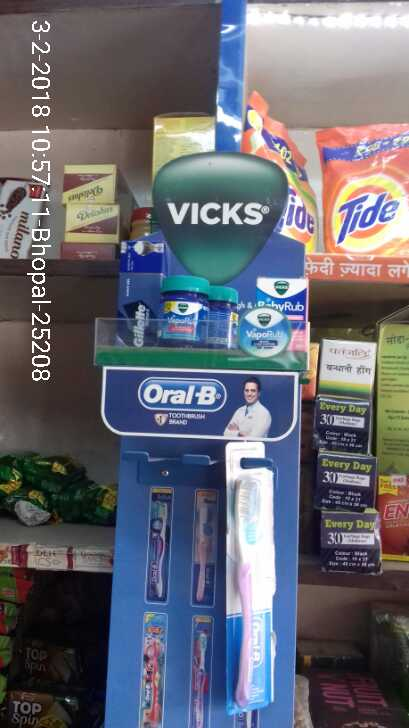beauty: (115, 237, 163, 350)
home: (317, 124, 409, 252)
pharmacy: (221, 433, 284, 710), (160, 270, 316, 357)
